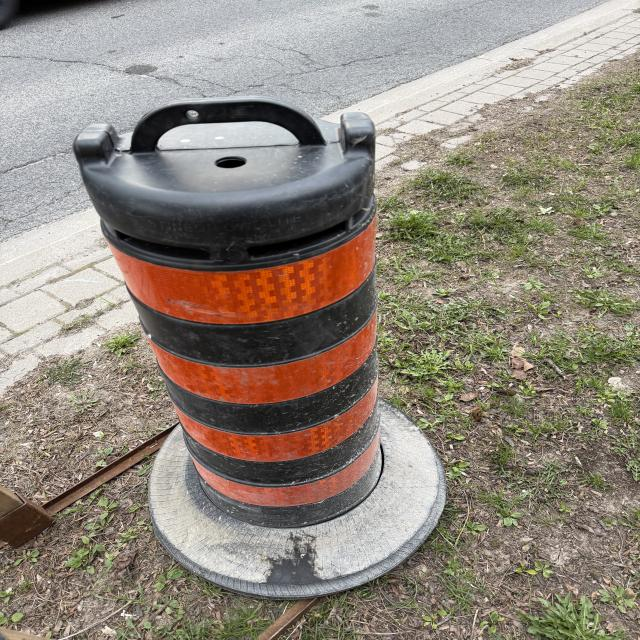Teraffic Barrel: (74, 98, 444, 598)
